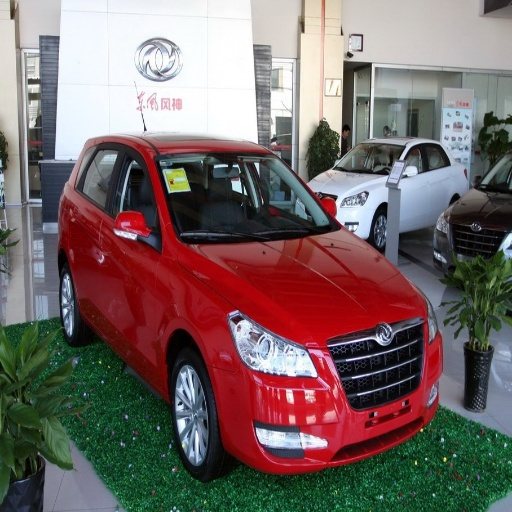front_bumper: (213, 320, 440, 473)
front_right_door: (103, 141, 161, 373)
front_right_light: (228, 310, 315, 377)
